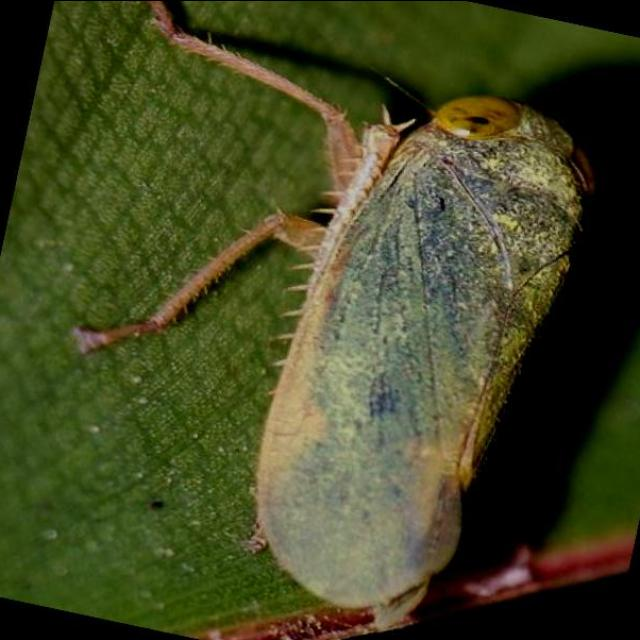green leaf hopper: (77, 0, 592, 630)
